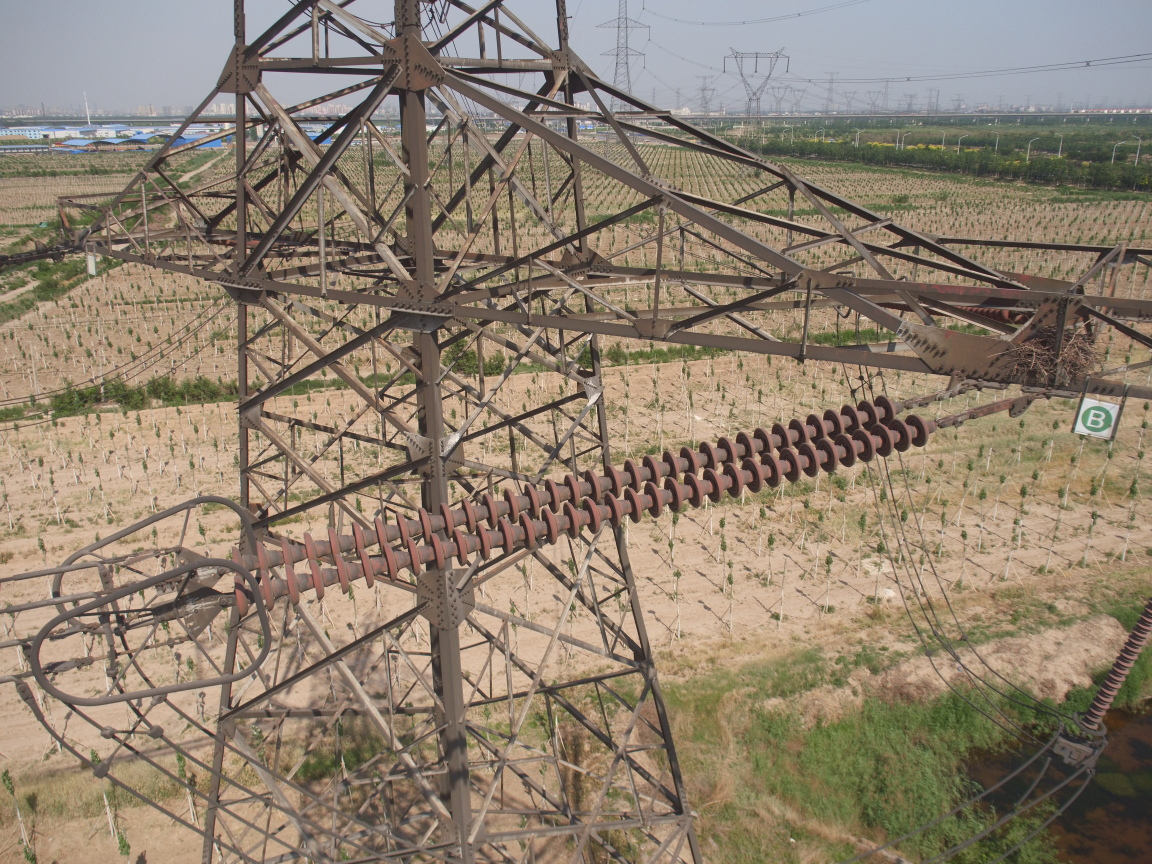insulator: (201, 388, 962, 623)
